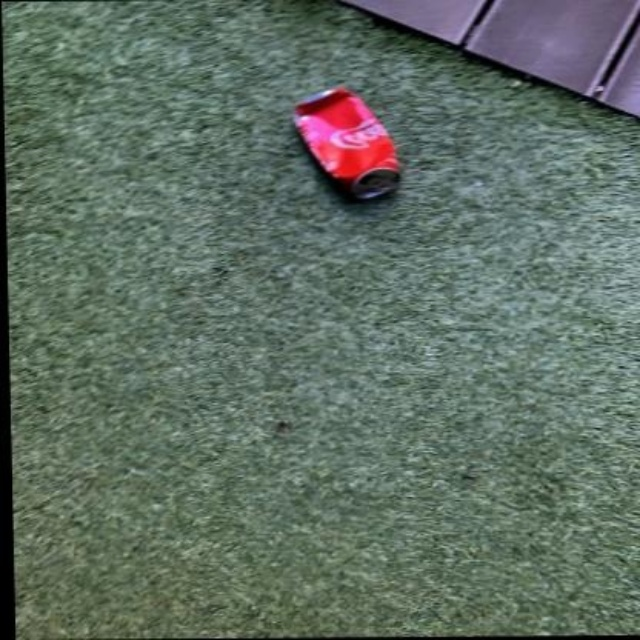trash: (295, 88, 397, 198)
